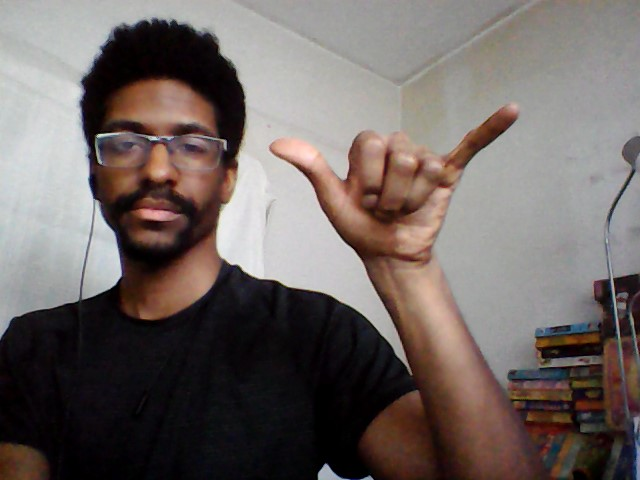y: (265, 100, 522, 264)
